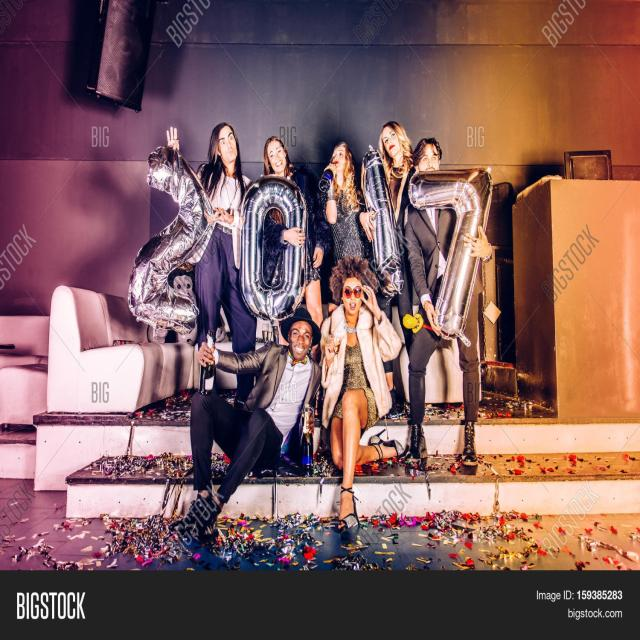body: (183, 305, 324, 543), (401, 134, 495, 480), (319, 250, 408, 538), (166, 121, 258, 394), (356, 120, 417, 420), (261, 133, 332, 366), (318, 139, 376, 270)
